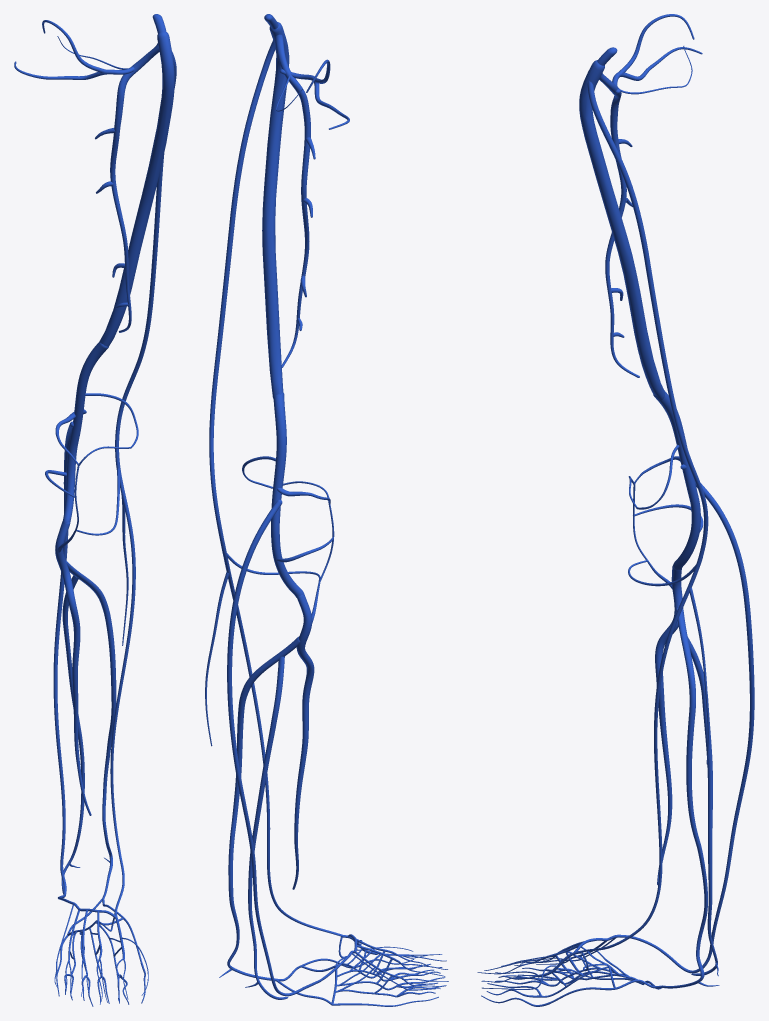
File: veins.lower_limb_right.glb
The picture shows the model from 3 angles, left to right: view 1: azimuth 30°, elevation 25°; view 2: azimuth 150°, elevation 25°; view 3: azimuth 270°, elevation 25°; orthographic projection. The views are drawn at different scales.
Parts seen in each view (by area): view 1: right_femoral_vein, right_great_saphenous_vein, right_anterior_tibial_vein, right_deep_femoral_vein, right_small_saphenous_vein, right_posterior_tibial_vein, right_popliteal_vein, right_fibular_vein, right_genicular_vein, right_lateral_circumflex_femoral_vein, right_set_of_plantar_digital_veins, right_set_of_dorsal_digital_veins (+3 smaller); view 2: right_great_saphenous_vein, right_femoral_vein, right_small_saphenous_vein, right_anterior_tibial_vein, right_posterior_tibial_vein, right_deep_femoral_vein, right_popliteal_vein, right_fibular_vein, right_set_of_plantar_digital_veins, right_genicular_vein, right_set_of_perforating_veins, right_lateral_circumflex_femoral_vein (+2 smaller); view 3: right_great_saphenous_vein, right_femoral_vein, right_small_saphenous_vein, right_posterior_tibial_vein, right_anterior_tibial_vein, right_fibular_vein, right_deep_femoral_vein, right_popliteal_vein, right_set_of_plantar_digital_veins, right_genicular_vein, right_lateral_circumflex_femoral_vein, right_set_of_perforating_veins (+1 smaller).
Part boxes in pixels (bbox=[...]): right_femoral_vein: bbox=[99, 32, 174, 351]; right_great_saphenous_vein: bbox=[110, 50, 176, 913]; right_anterior_tibial_vein: bbox=[55, 446, 131, 815]; right_deep_femoral_vein: bbox=[110, 14, 166, 332]; right_small_saphenous_vein: bbox=[53, 421, 73, 897]; right_posterior_tibial_vein: bbox=[66, 561, 116, 898]; right_popliteal_vein: bbox=[63, 342, 108, 523]; right_fibular_vein: bbox=[61, 575, 111, 893]; right_genicular_vein: bbox=[45, 393, 138, 535]; right_lateral_circumflex_femoral_vein: bbox=[14, 20, 134, 79]; right_set_of_plantar_digital_veins: bbox=[56, 917, 145, 1006]; right_set_of_dorsal_digital_veins: bbox=[54, 937, 148, 1002]; right_great_saphenous_vein: bbox=[205, 40, 343, 937]; right_femoral_vein: bbox=[262, 22, 289, 398]; right_small_saphenous_vein: bbox=[227, 499, 321, 996]; right_anterior_tibial_vein: bbox=[271, 481, 334, 889]; right_posterior_tibial_vein: bbox=[227, 636, 300, 981]; right_deep_femoral_vein: bbox=[264, 14, 310, 367]; right_popliteal_vein: bbox=[271, 392, 304, 598]; right_fibular_vein: bbox=[219, 656, 288, 999]; right_set_of_plantar_digital_veins: bbox=[301, 958, 446, 1006]; right_genicular_vein: bbox=[227, 456, 333, 581]; right_set_of_perforating_veins: bbox=[297, 137, 392, 993]; right_lateral_circumflex_femoral_vein: bbox=[279, 59, 349, 129]; right_great_saphenous_vein: bbox=[581, 80, 709, 952]; right_femoral_vein: bbox=[579, 60, 665, 400]; right_small_saphenous_vein: bbox=[663, 482, 754, 973]; right_posterior_tibial_vein: bbox=[661, 608, 707, 988]; right_anterior_tibial_vein: bbox=[628, 476, 683, 884]; right_fibular_vein: bbox=[688, 637, 719, 986]; right_deep_femoral_vein: bbox=[597, 47, 639, 377]; right_popliteal_vein: bbox=[653, 390, 700, 569]; right_set_of_plantar_digital_veins: bbox=[481, 967, 641, 1006]; right_genicular_vein: bbox=[628, 444, 703, 586]; right_lateral_circumflex_femoral_vein: bbox=[612, 14, 702, 93]; right_set_of_perforating_veins: bbox=[552, 139, 632, 986].
Size of the model in its own units: 0.1566 by 0.8957 by 0.2272.
